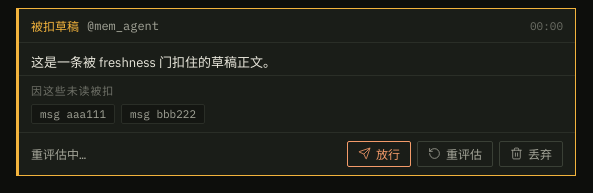
Test case: HeldDraftCard 409 静默收敛(经查询缓存刷新) › release 撞 409 HELD_DRAFT_RESOLVED → 以 details.held_draft 收敛为终态回执(不弹错)
Click the button "放行": x=379, y=154 [347,140,411,166]
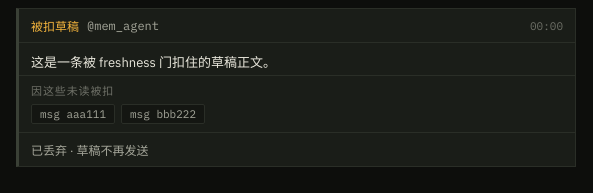
Expected: the text "已丢弃 · 草稿不再发送" is shown, [19,132,575,166]
Expected: the button "放行" is gone
